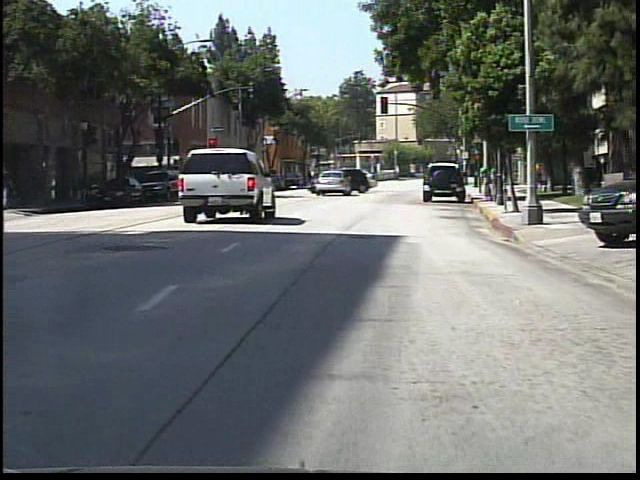person: (5, 164, 20, 213), (320, 160, 339, 194), (474, 155, 489, 185), (533, 158, 544, 192)
